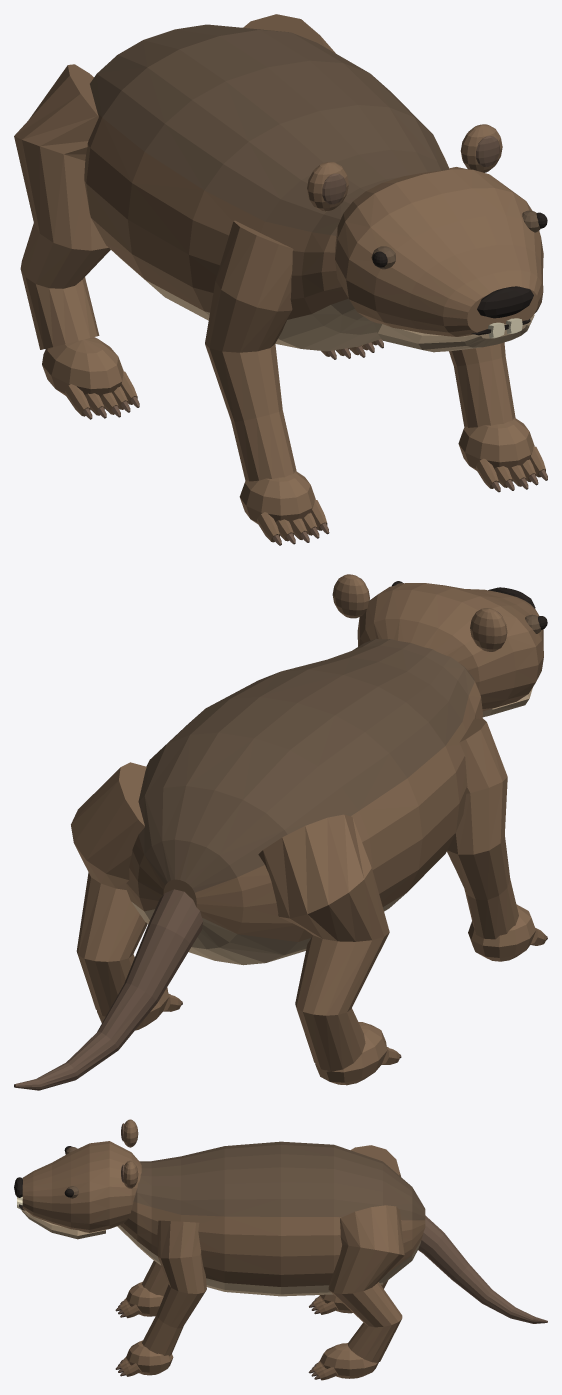
3 views of the same model, one above another, from view 1: azimuth 30°, elevation 25°; view 2: azimuth 150°, elevation 25°; view 3: azimuth 270°, elevation 25° (orthographic). The views are drawn at different scales.
Visible parts, largest first — view 1: Barrel torso and neck, Broad cranium cheek and muzzle, Hindlimb L, Forelimb L, Hind foot L, Fore foot R, Fore foot L, Forelimb R, Heavy lower jaw, Nose pad, Hindlimb R, Outer ear L (+1 smaller); view 2: Barrel torso and neck, Hindlimb L, Broad cranium cheek and muzzle, Hindlimb R, Forelimb L, Round tapered tail, Fore foot L, Hind foot L, Outer ear R, Outer ear L, Hind foot R; view 3: Barrel torso and neck, Hindlimb R, Broad cranium cheek and muzzle, Forelimb R, Round tapered tail, Hind foot R, Fore foot R, Fore foot L, Heavy lower jaw, Forelimb L, Hindlimb L, Hind foot L (+2 smaller).
Boxes of the visible parts, <box> form: Barrel torso and neck: <box>84,24,449,351</box>; Broad cranium cheek and muzzle: <box>335,169,543,336</box>; Hindlimb L: <box>14,64,110,349</box>; Forelimb L: <box>205,220,296,481</box>; Hind foot L: <box>42,337,139,419</box>; Fore foot R: <box>458,418,547,492</box>; Fore foot L: <box>239,471,329,545</box>; Forelimb R: <box>449,167,515,427</box>; Heavy lower jaw: <box>373,314,534,352</box>; Nose pad: <box>477,286,533,318</box>; Hindlimb R: <box>243,14,335,53</box>; Outer ear L: <box>307,162,348,211</box>; Barrel torso and neck: <box>125,639,482,965</box>; Hindlimb L: <box>258,814,389,1071</box>; Broad cranium cheek and muzzle: <box>357,583,543,711</box>; Hindlimb R: <box>71,762,147,1016</box>; Forelimb L: <box>447,718,518,939</box>; Round tapered tail: <box>14,889,203,1090</box>; Fore foot L: <box>468,904,547,961</box>; Hind foot L: <box>315,1022,401,1085</box>; Outer ear R: <box>332,574,369,618</box>; Outer ear L: <box>470,608,507,651</box>; Hind foot R: <box>97,987,182,1030</box>; Barrel torso and neck: <box>117,1141,425,1296</box>; Hindlimb R: <box>328,1205,404,1362</box>; Broad cranium cheek and muzzle: <box>22,1141,141,1232</box>; Forelimb R: <box>142,1220,206,1356</box>; Round tapered tail: <box>418,1215,547,1323</box>; Hind foot R: <box>308,1343,378,1380</box>; Fore foot R: <box>115,1340,173,1376</box>; Fore foot L: <box>115,1281,163,1318</box>; Heavy lower jaw: <box>21,1200,105,1239</box>; Forelimb L: <box>141,1260,168,1296</box>; Hindlimb L: <box>350,1145,400,1288</box>; Hind foot L: <box>309,1294,352,1314</box>.
Size of the model in its own units: 0.3298 by 0.358 by 0.854.
